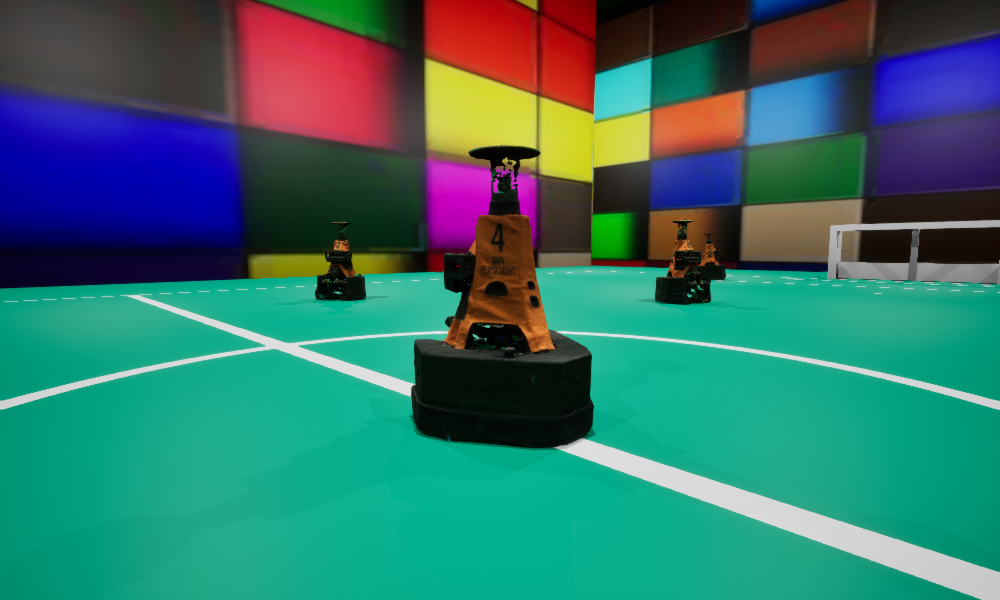0 orange robot TechUnited: (411, 145, 593, 447), (655, 220, 710, 304), (315, 222, 365, 299), (695, 234, 725, 279)
